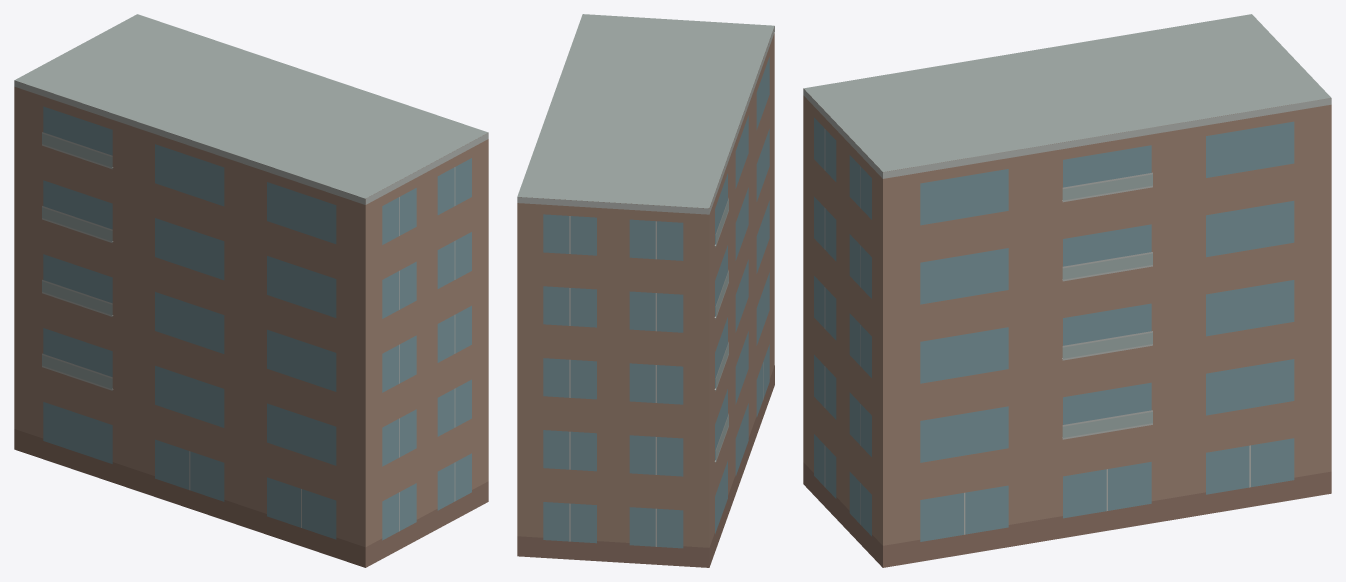
Rendered from survey-upis-33013981.glb.
3 views of the same model, side by side, from view 1: azimuth 30°, elevation 25°; view 2: azimuth 150°, elevation 25°; view 3: azimuth 270°, elevation 25° (orthographic). The views are drawn at different scales.
Visible parts, largest first — view 1: survey-upis-33013981.tmp; view 2: survey-upis-33013981.tmp; view 3: survey-upis-33013981.tmp.
Part boxes in pixels (x1,y1,x2,y2): survey-upis-33013981.tmp: (14, 14, 488, 567); survey-upis-33013981.tmp: (517, 14, 774, 567); survey-upis-33013981.tmp: (803, 14, 1331, 567).
Bounding box in the file's own units: 12.13 × 14.15 × 17.12.
